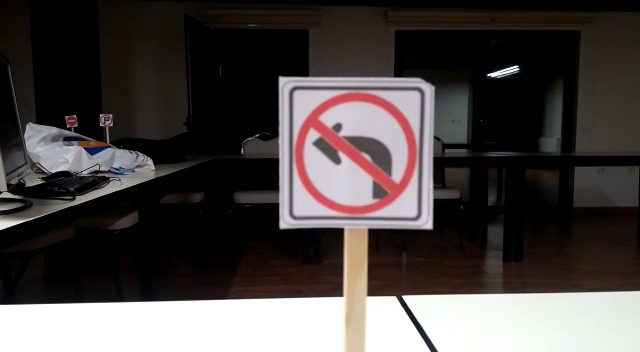sola_donulmez: (279, 81, 430, 223)
